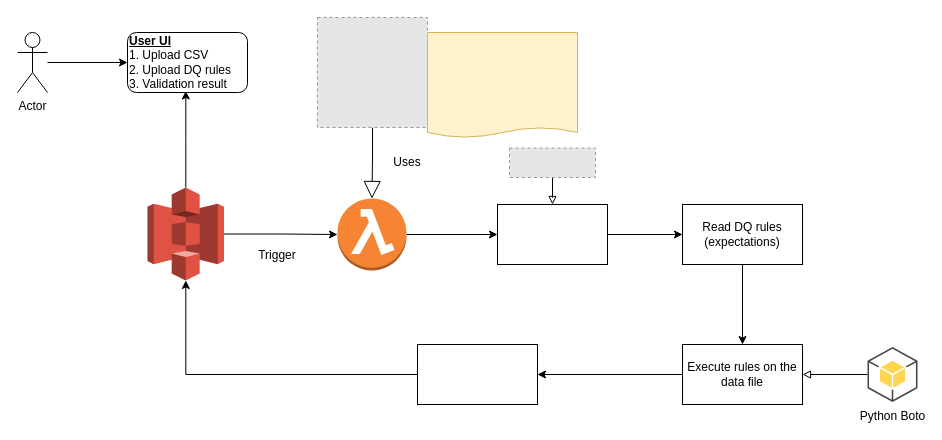
The diagram is 942 pixels wide and 440 high, and some of its shapes have lost their labels. Grey dashed boxes stand in for pictures. The shapes that lost their labels are listed below. From the top down, each one's centre as x and y in pixels, then its label:
At (502,85): "Python Great Expectation Pandas Boto 3 S3FS".
At (552,234): "Read file for validation from S3 bucket".
At (477,374): "Write the validation results".
